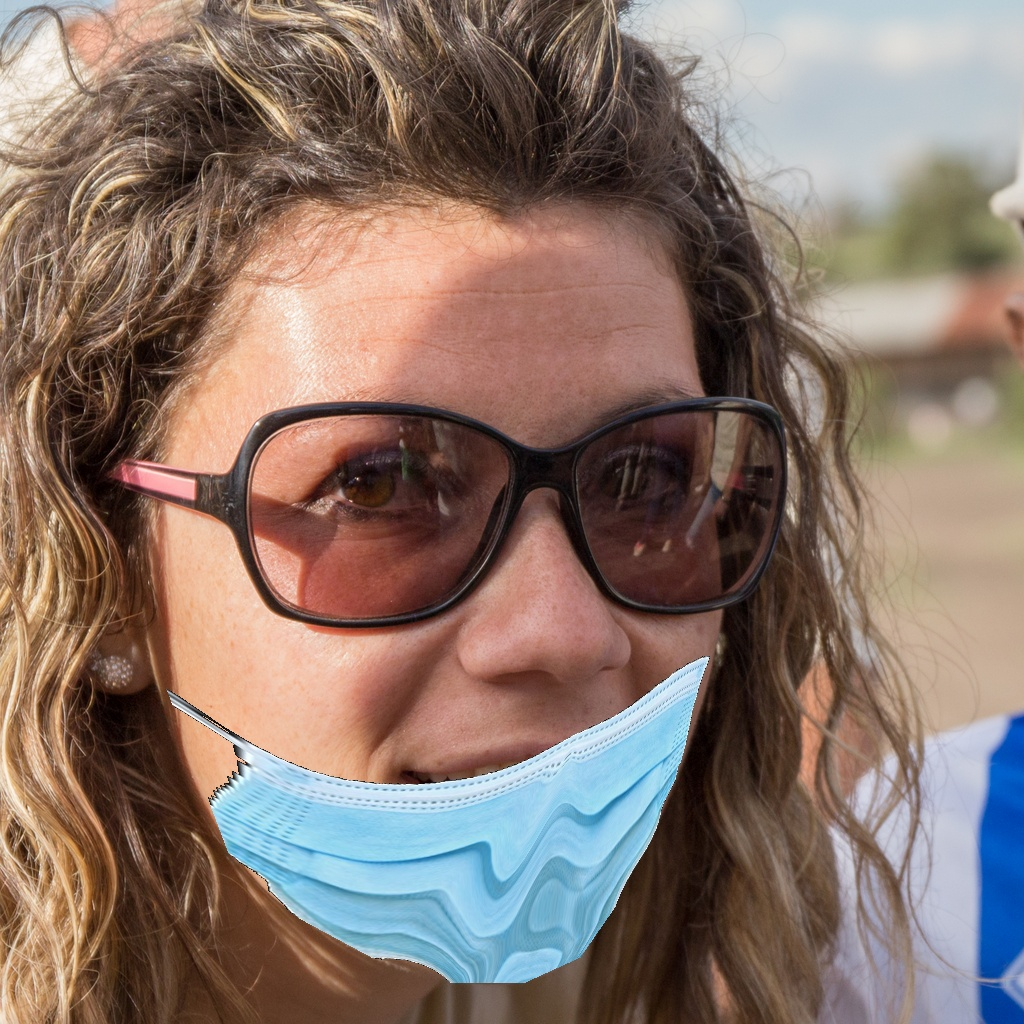mascarilla_mal_puesta: (44, 355, 757, 1024)
